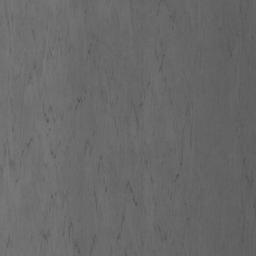Silk spot: (0, 0, 198, 256), (219, 0, 256, 72), (239, 152, 256, 248)
